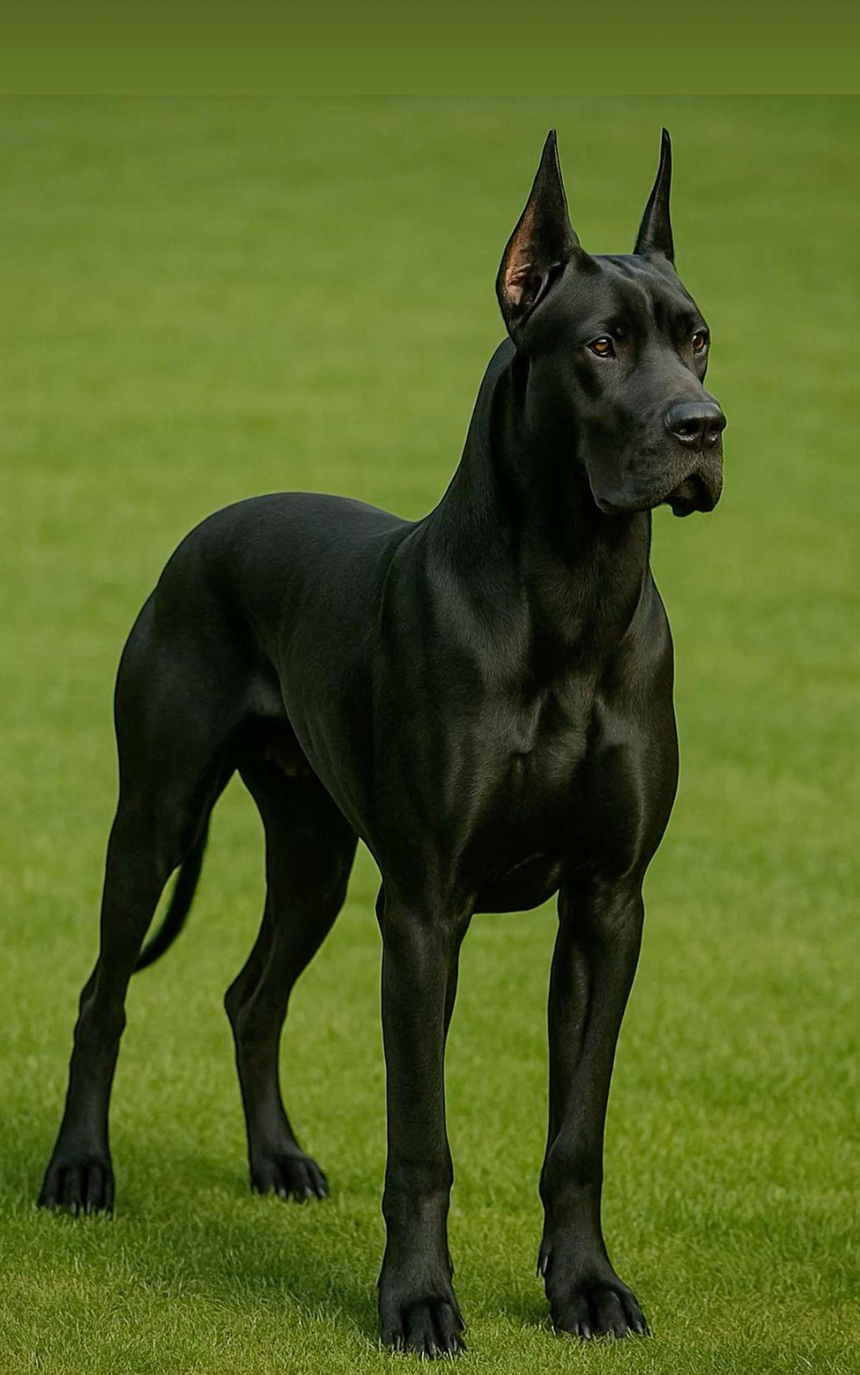dog: (40, 134, 724, 1354)
